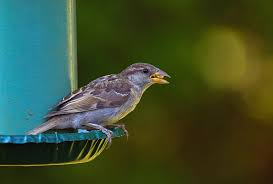hsparrow: (26, 62, 176, 147)
